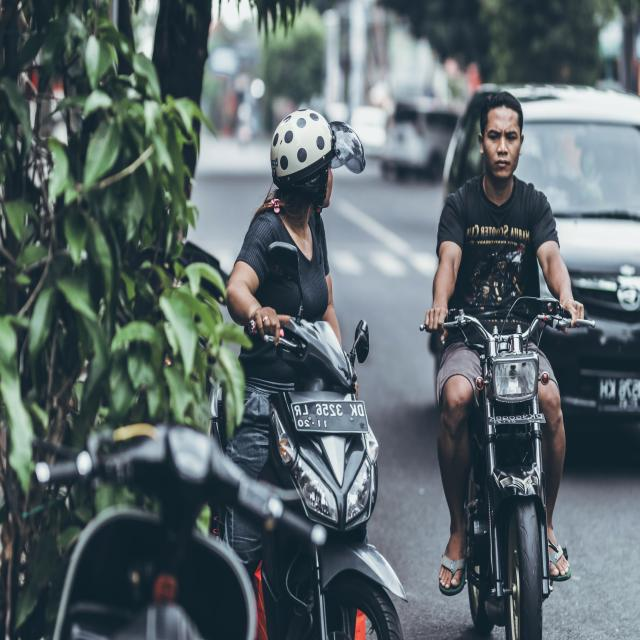adult: (438, 92, 585, 598), (227, 106, 360, 400)
